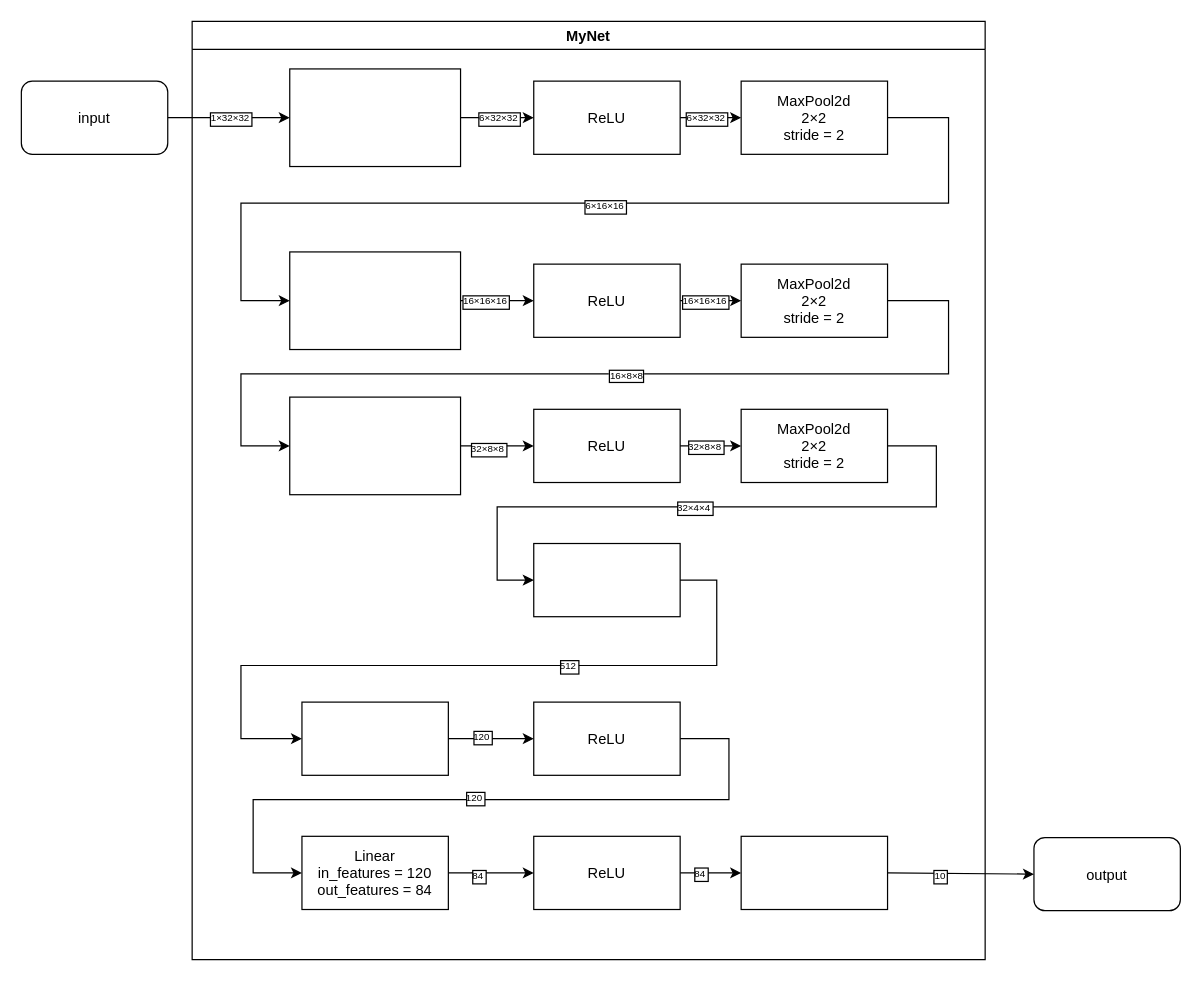
This 1202x981 diagram has some shape labels left out. The shapes that lost their labels are listed below. From the top down, each one's centre as x and y in pixels, then its label:
At point 375,117: "Conv2d 9×9 padding = 4 in_channels = 1 out_channels = 6".
At point 375,300: "Conv2d 7×7 padding = 3 in_channels = 6 out_channels = 16".
At point 375,445: "Conv2d 5×5 padding = 2 in_channels = 16 out_channels = 32".
At point 606,579: "flatten".
At point 374,738: "Linear in_features = 512 out_features = 120".
At point 814,872: "Linear in_features = 84 out_features = 10".
